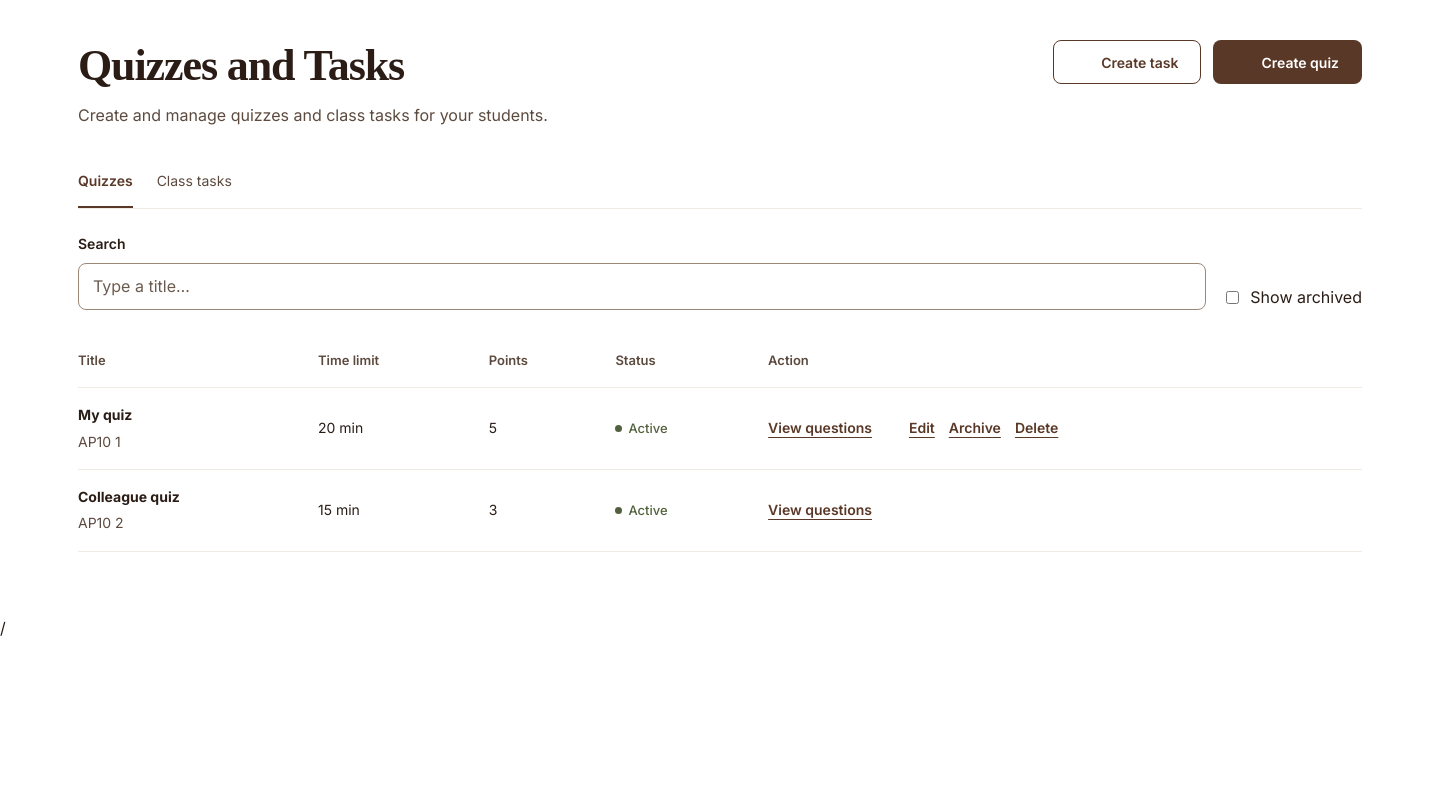
Scenario: AssessmentsPage › deletes a quiz after confirmation
The width and height of the screenshot is (1440, 810).
Check: the text "My quiz" is shown, box x1=78 y1=406 x2=132 y2=423
Click the button "Delete" at (1037,429), box x1=1015 y1=407 x2=1058 y2=451
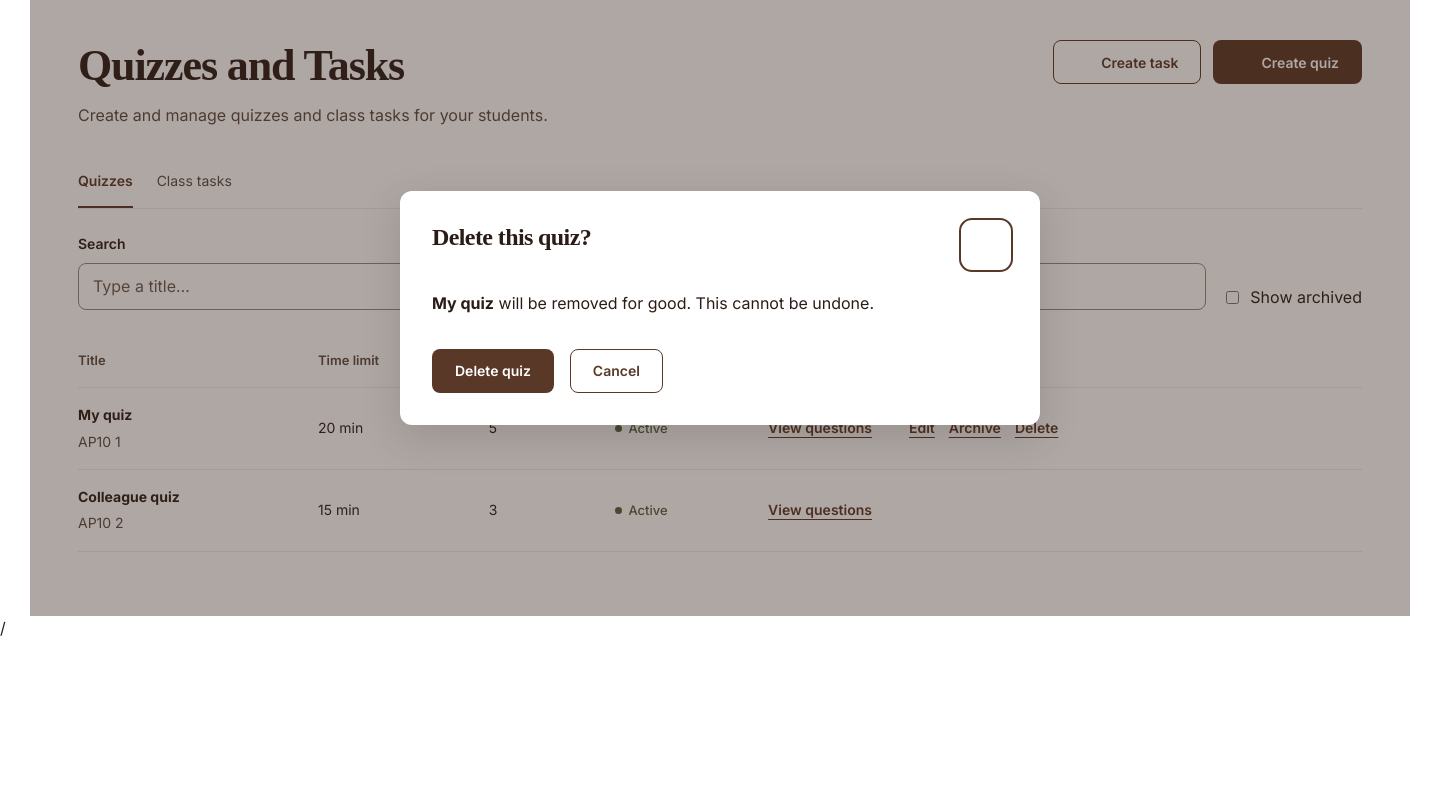
Click the button "Delete quiz" at (493,371), box x1=432 y1=349 x2=554 y2=393
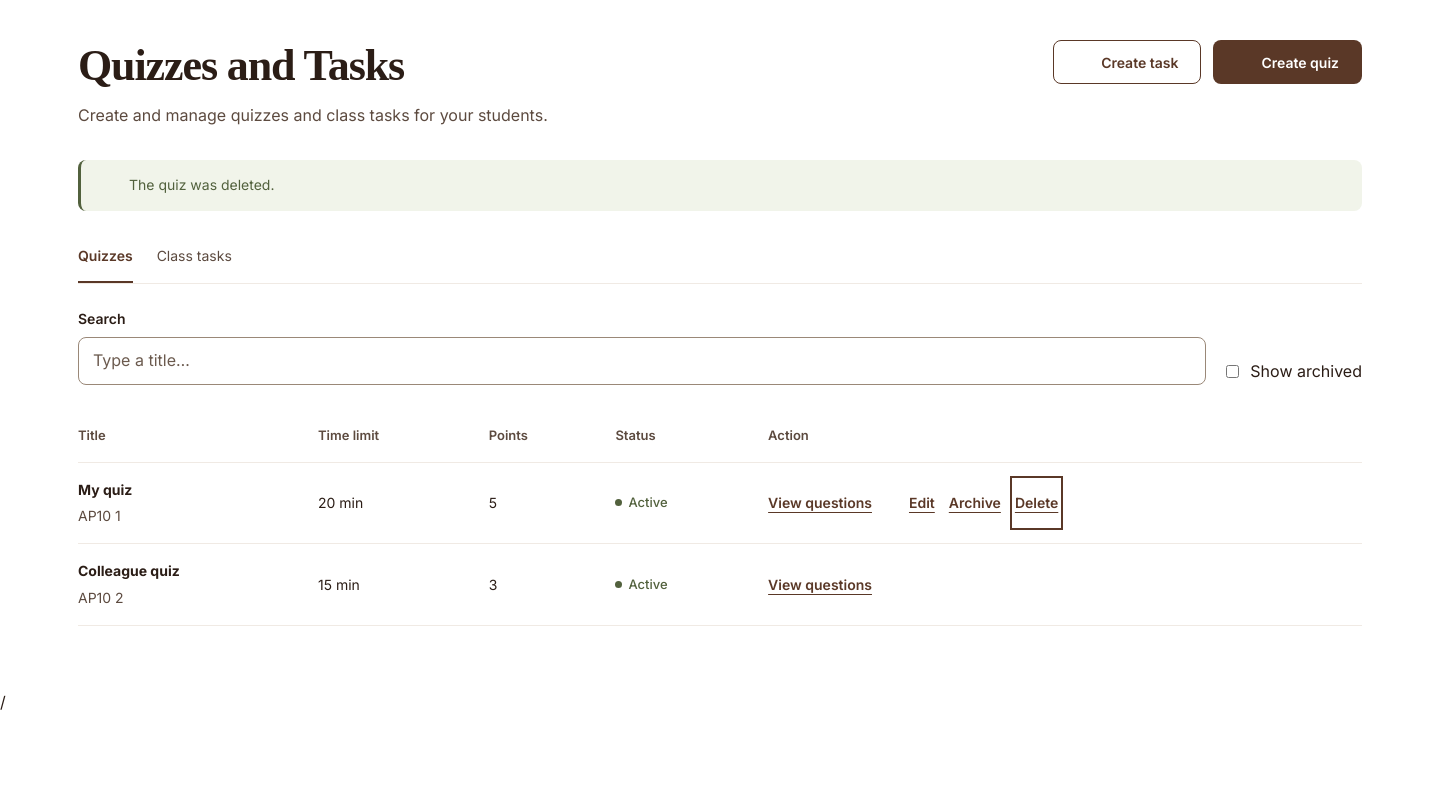
Check: the text "The quiz was deleted." is shown, box x1=129 y1=174 x2=274 y2=197
Check: the dialog is gone
